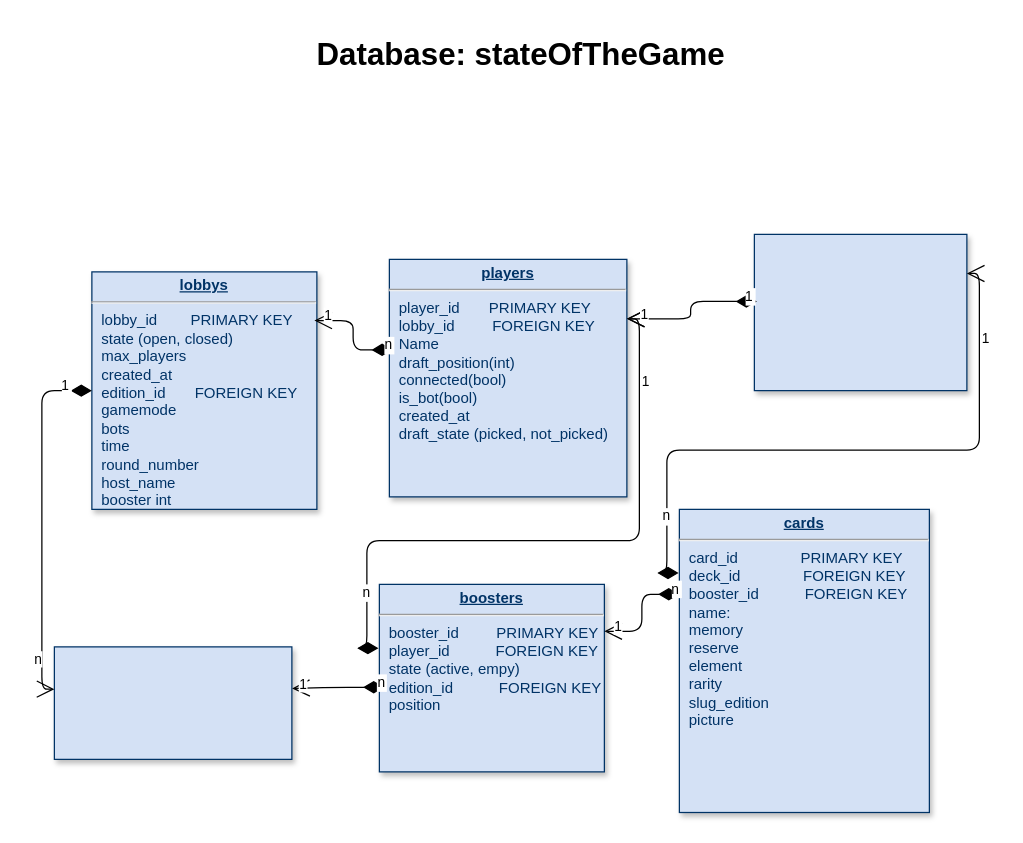
The diagram is 1023 pixels wide and 843 high, and some of its shapes have lost their labels. Here are the shapes that lost their labels. From the top down, the centre of each, then its label:
At pixel 861 313: "Decks deck_id PRIMARY KEY player_id FOREIGN KEY".
At pixel 173 704: "editions edition_id PRIMARY KEY".
